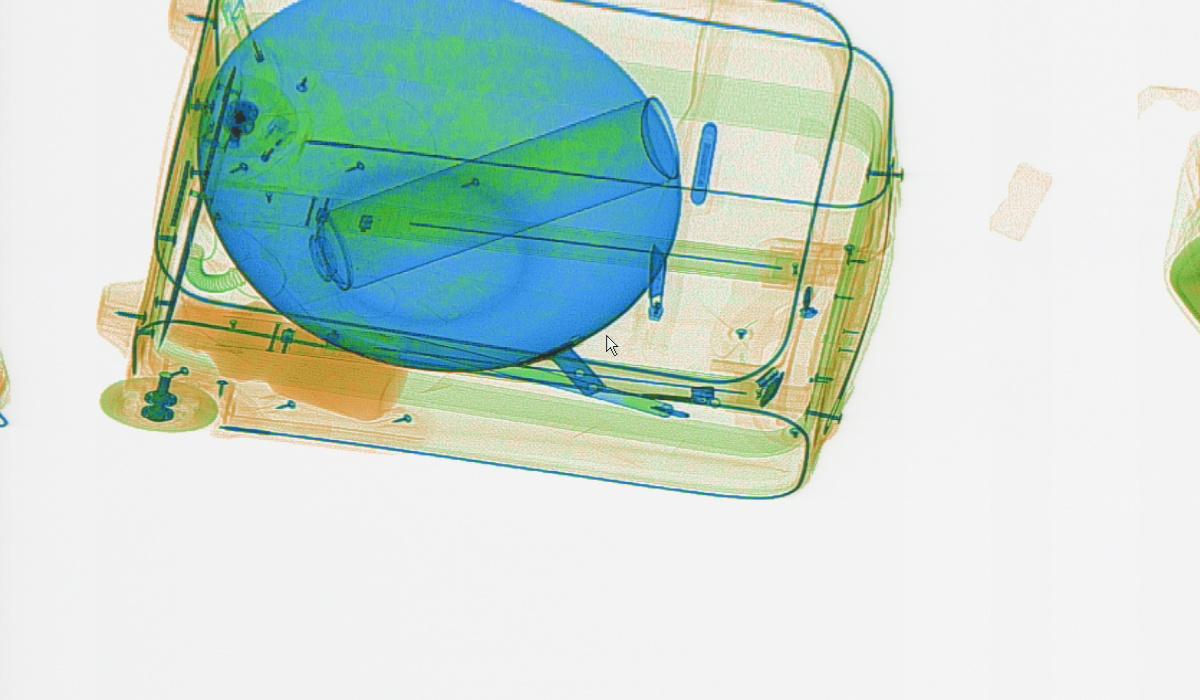pressure: (308, 97, 682, 289)
